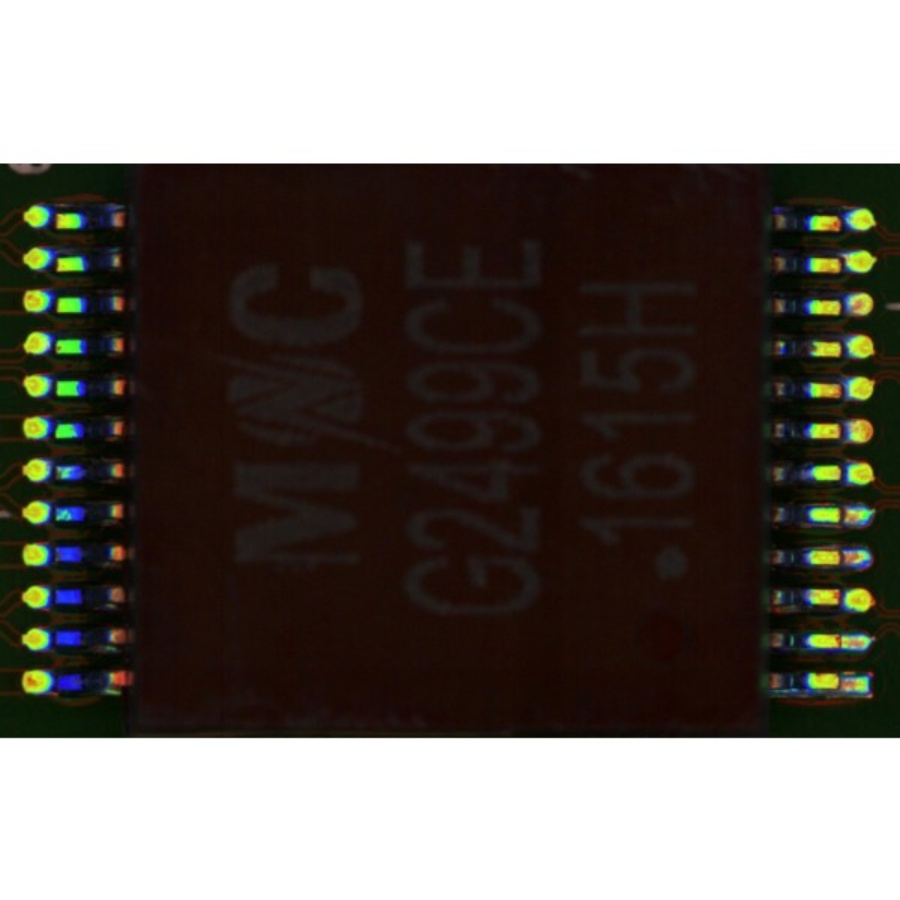Bad_podu: (830, 507, 855, 522), (828, 677, 858, 688), (826, 638, 858, 648), (830, 552, 855, 562)
